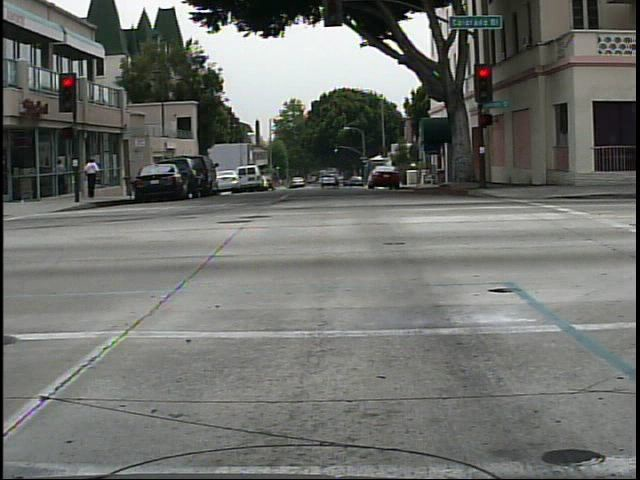person: (473, 140, 503, 194), (86, 154, 103, 200)
